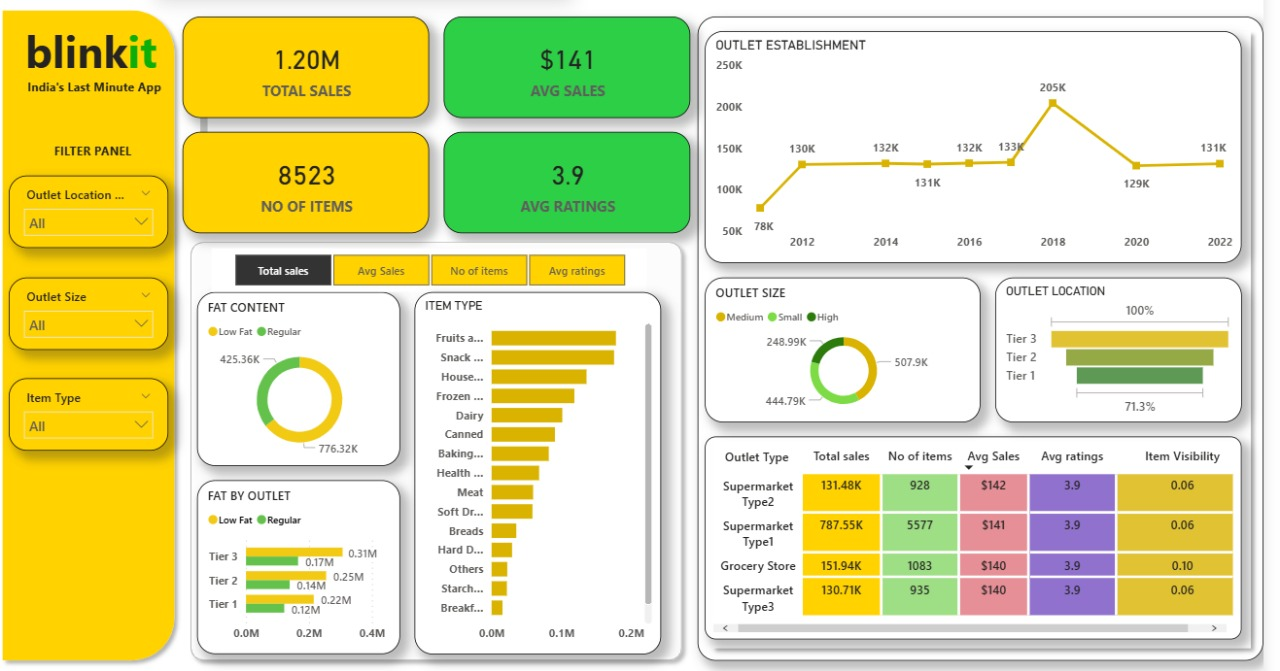

Layout of this report page (visuals, bound fields, positions):
{"tool":"powerbi","page":{"name":"Page 1","canvas":[1400,800],"ordinal":0},"visuals":[{"type":"shape","box":[0,32,208,736],"z":0},{"type":"textbox","box":[16,48,208,144],"z":1000},{"type":"textbox","box":[32,112,208,96],"z":2000},{"type":"card","fields":{"Values":["BlinkIT Grocery Data.Total sales"]},"box":[208,48,272,112],"z":3000},{"type":"card","fields":{"Values":["BlinkIT Grocery Data.Avg ratings"]},"box":[496,176,272,112],"z":4000},{"type":"card","fields":{"Values":["BlinkIT Grocery Data.AVG Sales"]},"box":[496,48,272,112],"z":5000},{"type":"shape","box":[208,288,560,480],"z":6000},{"type":"card","fields":{"Values":["BlinkIT Grocery Data.No of items"]},"box":[208,176,272,112],"z":7000},{"type":"donutChart","title":"FAT CONTENT","fields":{"Y":["BlinkIT Grocery Data.Total sales"],"Category":["BlinkIT Grocery Data.Item Fat Content"]},"box":[224,352,224,192],"z":8000},{"type":"slicer","fields":{"Values":["Metrics.Metrics "]},"box":[240,304,480,48],"z":9000},{"type":"clusteredBarChart","title":"FAT BY OUTLET","fields":{"Category":["BlinkIT Grocery Data.Outlet Location Type"],"Y":["BlinkIT Grocery Data.Total sales"],"Series":["BlinkIT Grocery Data.Item Fat Content"]},"box":[224,560,224,192],"z":9001},{"type":"shape","box":[776,48,624,711],"z":9002},{"type":"barChart","title":"ITEM TYPE","fields":{"Category":["BlinkIT Grocery Data.Item Type"],"Y":["BlinkIT Grocery Data.Total sales"]},"box":[464,352,272,400],"z":9003},{"type":"lineChart","title":"OUTLET ESTABLISHMENT","fields":{"Y":["BlinkIT Grocery Data.Total sales"],"Category":["BlinkIT Grocery Data.Outlet Establishment Year"]},"box":[784,64,608,256],"z":9004},{"type":"donutChart","title":"OUTLET SIZE","fields":{"Y":["BlinkIT Grocery Data.Total sales"],"Category":["BlinkIT Grocery Data.Outlet Size"]},"box":[784,336,304,160],"z":9005},{"type":"funnel","title":"OUTLET LOCATION","fields":{"Y":["Sum(BlinkIT Grocery Data.Sales)"],"Category":["BlinkIT Grocery Data.Outlet Location Type"]},"box":[1104,336,272,160],"z":9006},{"type":"pivotTable","fields":{"Rows":["BlinkIT Grocery Data.Outlet Type"],"Values":["BlinkIT Grocery Data.Total sales","BlinkIT Grocery Data.No of items","BlinkIT Grocery Data.Avg Sales","BlinkIT Grocery Data.Avg ratings","Avg(BlinkIT Grocery Data.Item Visibility)"]},"box":[784,512,592,224],"z":9007},{"type":"slicer","fields":{"Values":["BlinkIT Grocery Data.Outlet Location Type"]},"box":[16,224,176,80],"z":9008},{"type":"slicer","fields":{"Values":["BlinkIT Grocery Data.Outlet Size"]},"box":[16,336,176,80],"z":9009},{"type":"slicer","fields":{"Values":["BlinkIT Grocery Data.Item Type"]},"box":[16,448,176,80],"z":9010}]}

Visuals, with their boxes in screenshot pixels (x1, y1, x2, y2):
shape: rect(7, 2, 191, 655)
textbox: rect(21, 16, 206, 144)
textbox: rect(35, 73, 220, 158)
card - BlinkIT Grocery Data.Total sales: rect(191, 16, 433, 115)
card - BlinkIT Grocery Data.Avg ratings: rect(447, 130, 688, 229)
card - BlinkIT Grocery Data.AVG Sales: rect(447, 16, 688, 115)
shape: rect(191, 229, 688, 655)
card - BlinkIT Grocery Data.No of items: rect(191, 130, 433, 229)
"FAT CONTENT" donutChart: rect(206, 286, 404, 456)
slicer - Metrics.Metrics : rect(220, 243, 646, 286)
"FAT BY OUTLET" clusteredBarChart: rect(206, 470, 404, 641)
shape: rect(696, 16, 1250, 647)
"ITEM TYPE" barChart: rect(419, 286, 660, 641)
"OUTLET ESTABLISHMENT" lineChart: rect(703, 30, 1242, 257)
"OUTLET SIZE" donutChart: rect(703, 272, 973, 414)
"OUTLET LOCATION" funnel: rect(987, 272, 1228, 414)
pivotTable - BlinkIT Grocery Data.Outlet Type x BlinkIT Grocery Data.Total sales: rect(703, 428, 1228, 627)
slicer - BlinkIT Grocery Data.Outlet Location Type: rect(21, 172, 177, 243)
slicer - BlinkIT Grocery Data.Outlet Size: rect(21, 272, 177, 343)
slicer - BlinkIT Grocery Data.Item Type: rect(21, 371, 177, 442)
